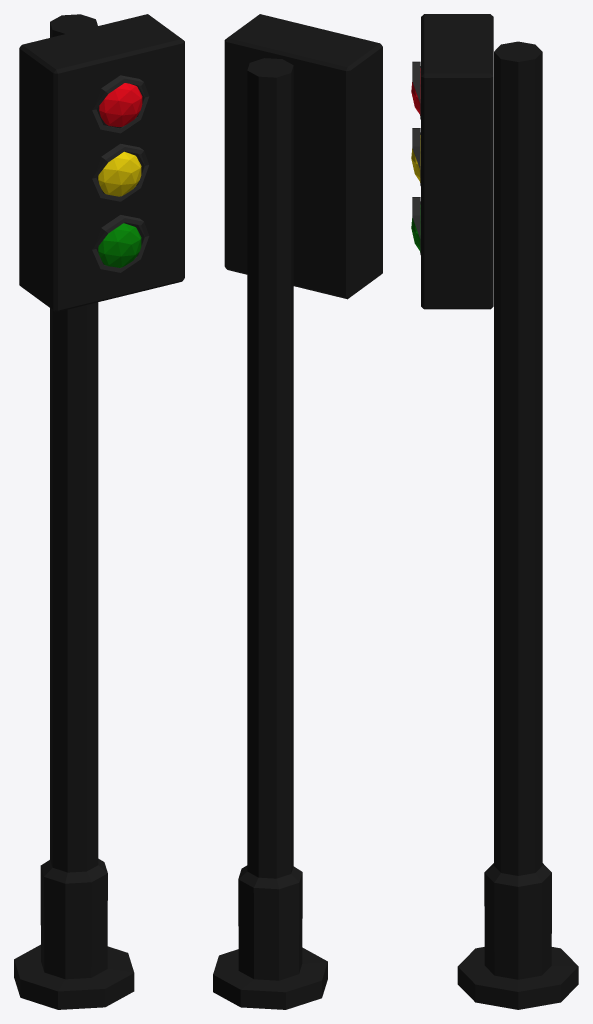
The model's file is TrafficLight.fbx.
3 views of the same model, side by side, from view 1: azimuth 30°, elevation 25°; view 2: azimuth 150°, elevation 25°; view 3: azimuth 270°, elevation 25° (orthographic). The views are drawn at different scales.
Parts seen in each view (by area): view 1: Cylinder.006, Icosphere.009, Icosphere.008, Icosphere.007, Cylinder.009, Cylinder.010, Cylinder.011; view 2: Cylinder.006; view 3: Cylinder.006.
Part boxes in pixels (x1,y1,x2,y2): Cylinder.006: (14,14,184,1009); Icosphere.009: (98,223,141,267); Icosphere.008: (98,151,141,196); Icosphere.007: (99,83,142,126); Cylinder.009: (92,75,149,133); Cylinder.010: (92,143,149,201); Cylinder.011: (92,215,149,272); Cylinder.006: (213,14,382,1009); Cylinder.006: (421,14,578,1009).
Size of the model in its own units: 113 by 797 by 129.
